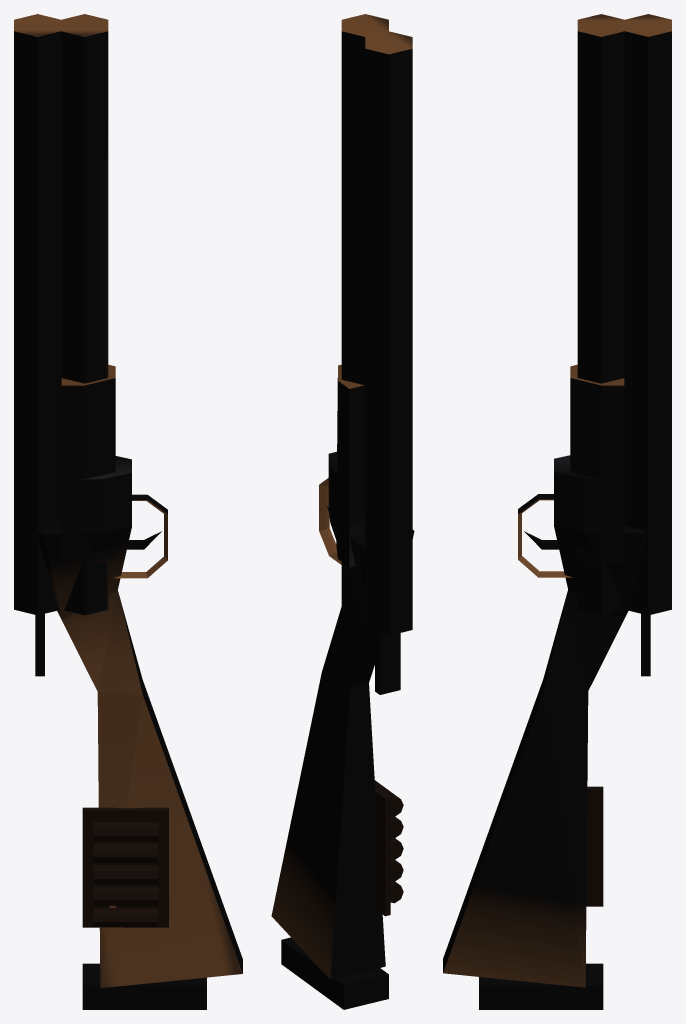
File: HenryBigBoy__Mount_ScopeBase__RecoilPad_Rubber__ShellHolder_Butt.fbx
The picture shows the model from 3 angles, left to right: view 1: azimuth 90°, elevation 25°; view 2: azimuth 210°, elevation 25°; view 3: azimuth 270°, elevation 25°; orthographic projection.
Parts seen in each view (by area): view 1: asset_HenryBigBoy.001; view 2: asset_HenryBigBoy.001; view 3: asset_HenryBigBoy.001.
Part boxes in pixels (left/top/right/bottom): asset_HenryBigBoy.001: left=14, top=14, right=242, bottom=1009; asset_HenryBigBoy.001: left=271, top=14, right=414, bottom=1009; asset_HenryBigBoy.001: left=443, top=14, right=671, bottom=1009.
Size of the model in its own units: 0.0449 by 0.597 by 0.1272.
